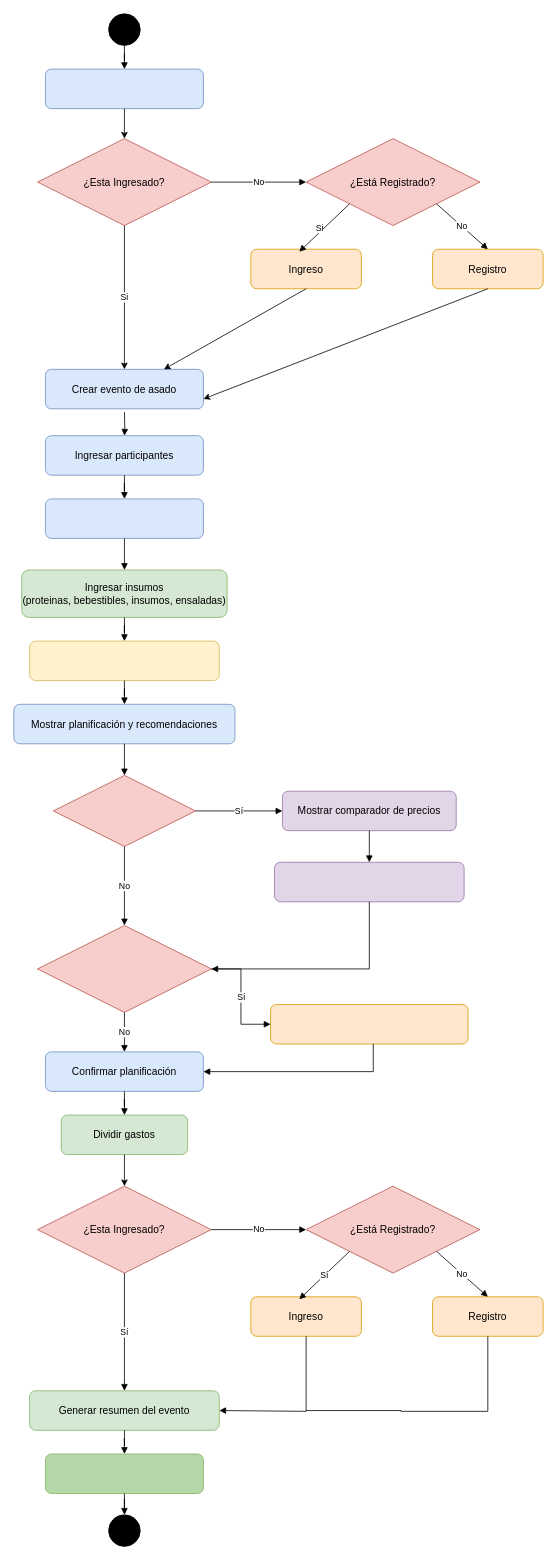
This 557x1560 diagram has some shape labels left out. The shapes that lost their labels are listed below. From the top down, each one's centre as x and y in pixels, then its label:
At (x=124, y=88): "Inicio".
At (x=124, y=518): "Definir perfil de consumo".
At (x=124, y=660): "Ejecutar IA de recomendación".
At (x=124, y=810): "¿Desea comparar precios?".
At (x=369, y=881): "Seleccionar mejor opción de compra".
At (x=124, y=968): "¿Desea contratar servicio de asado a domicilio?".
At (x=369, y=1024): "Solicitar servicio".
At (x=124, y=1473): "Compartir por WhatsApp".
